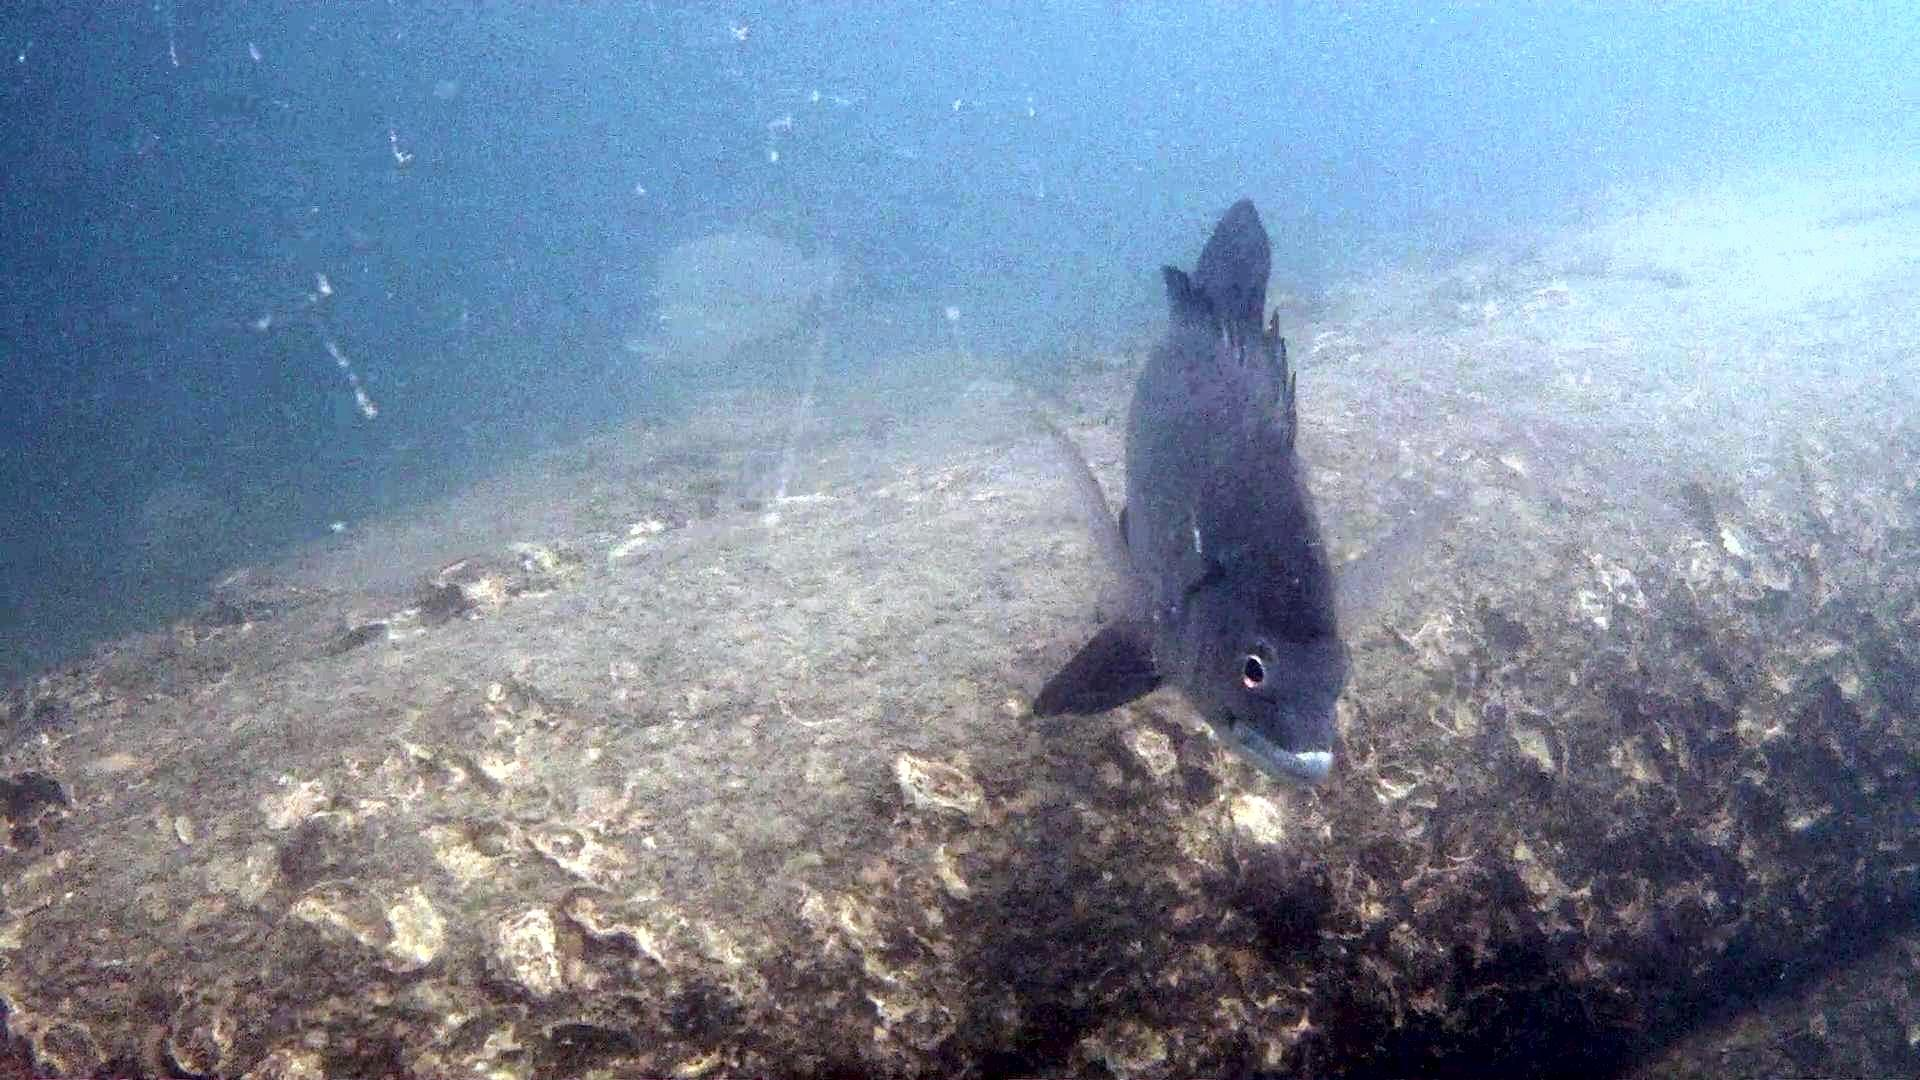acanthopagrus palmaris: (963, 187, 1510, 804)
